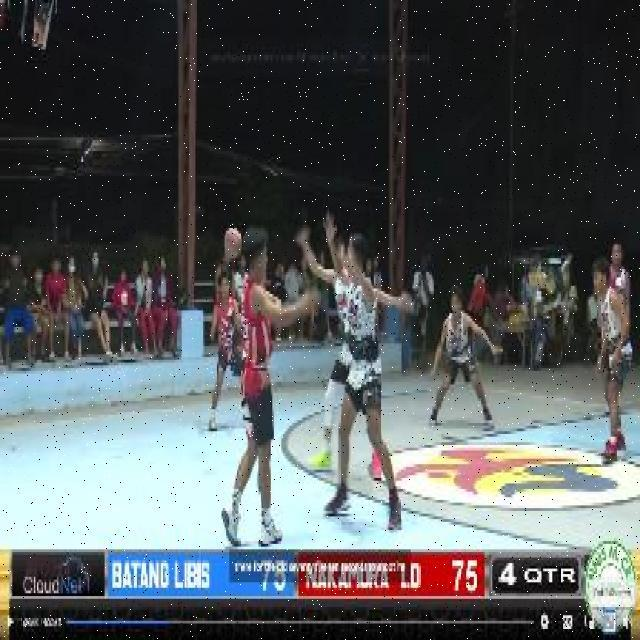ball: (220, 224, 246, 265)
